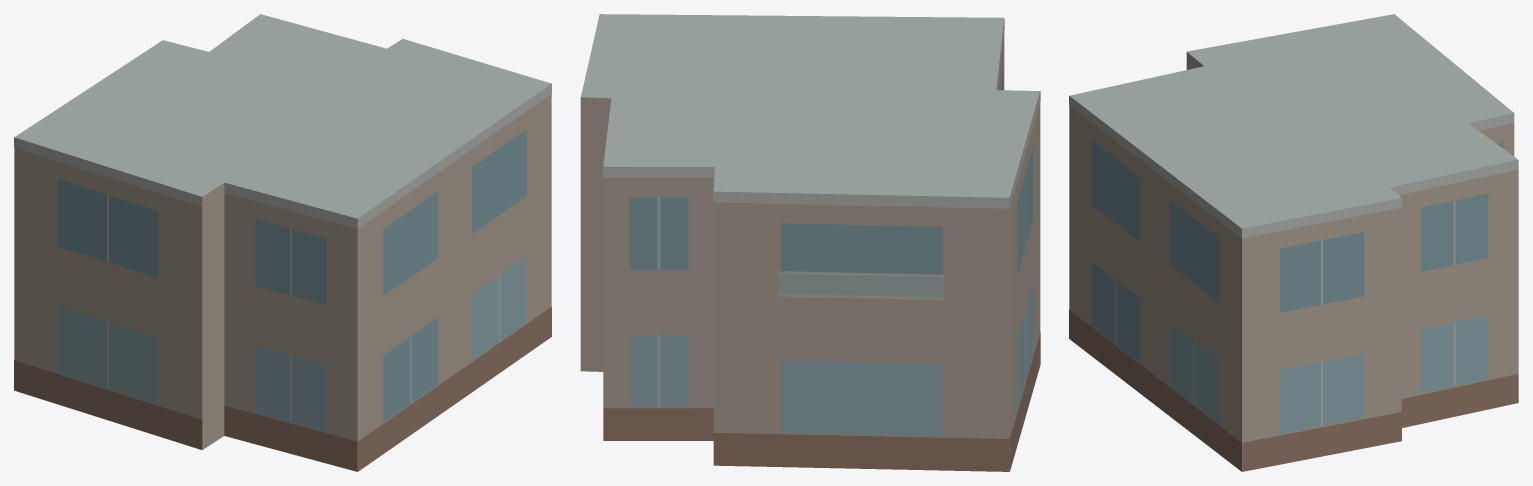
File: survey-upis-32585254.glb
The picture shows the model from 3 angles, left to right: view 1: azimuth 30°, elevation 25°; view 2: azimuth 150°, elevation 25°; view 3: azimuth 270°, elevation 25°; orthographic projection. The views are drawn at different scales.
Parts seen in each view (by area): view 1: survey-upis-32585254.tmp; view 2: survey-upis-32585254.tmp; view 3: survey-upis-32585254.tmp.
Boxes of the visible parts, left/top/right/bottom form: survey-upis-32585254.tmp: left=14, top=14, right=551, bottom=471; survey-upis-32585254.tmp: left=580, top=14, right=1040, bottom=471; survey-upis-32585254.tmp: left=1069, top=14, right=1518, bottom=471.
Size of the model in its own units: 11.57 by 6.1 by 10.23.
